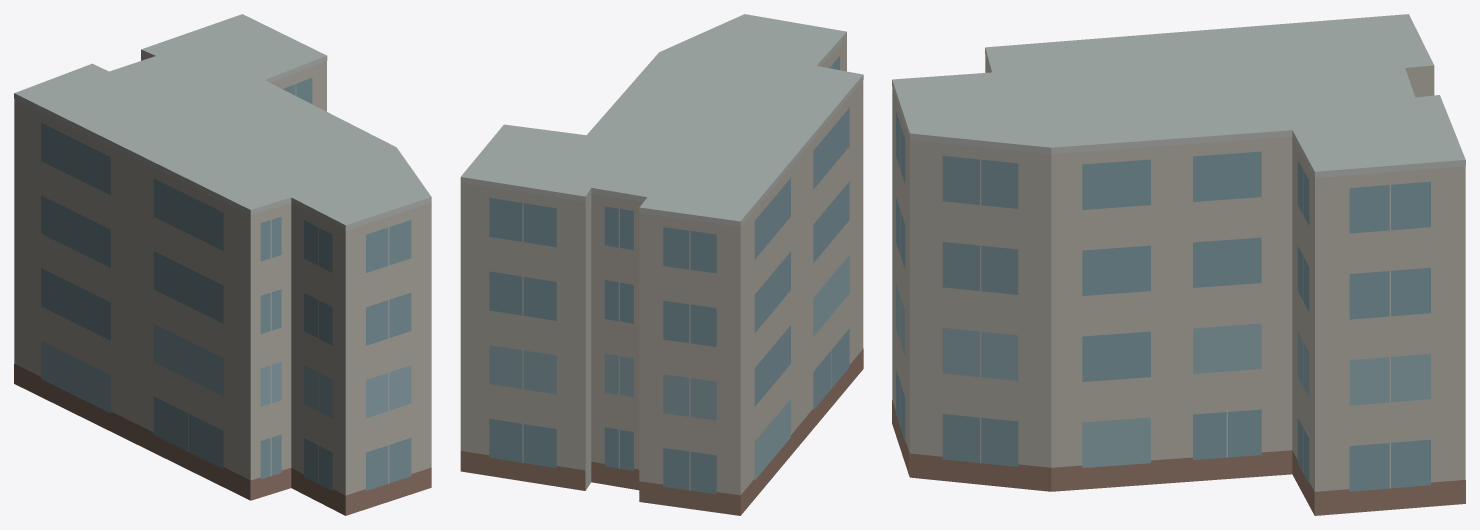
Rendered from survey-upis-32869208.glb.
3 views of the same model, side by side, from view 1: azimuth 30°, elevation 25°; view 2: azimuth 150°, elevation 25°; view 3: azimuth 270°, elevation 25° (orthographic). The views are drawn at different scales.
Parts seen in each view (by area): view 1: survey-upis-32869208.tmp; view 2: survey-upis-32869208.tmp; view 3: survey-upis-32869208.tmp.
Part boxes in pixels (x1,y1,x2,y2): survey-upis-32869208.tmp: [14, 14, 431, 515]; survey-upis-32869208.tmp: [460, 14, 863, 515]; survey-upis-32869208.tmp: [892, 14, 1465, 515].
Bounding box in the file's own units: 13 × 13.2 × 19.96.
